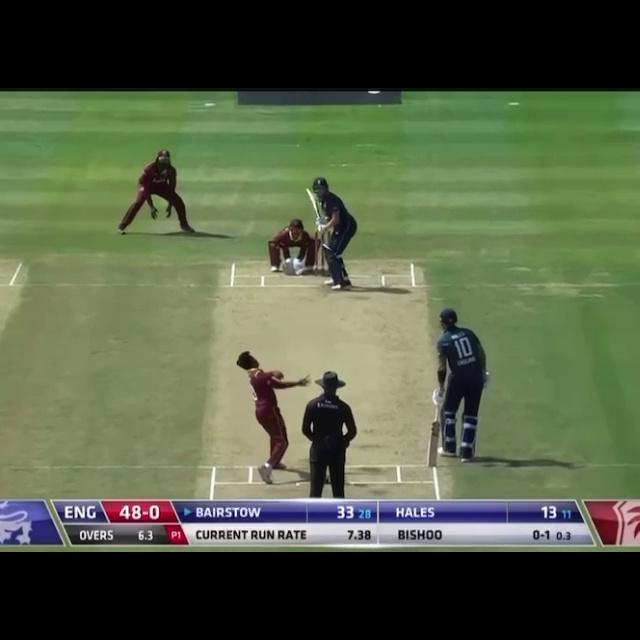umpire: (295, 364, 359, 499)
